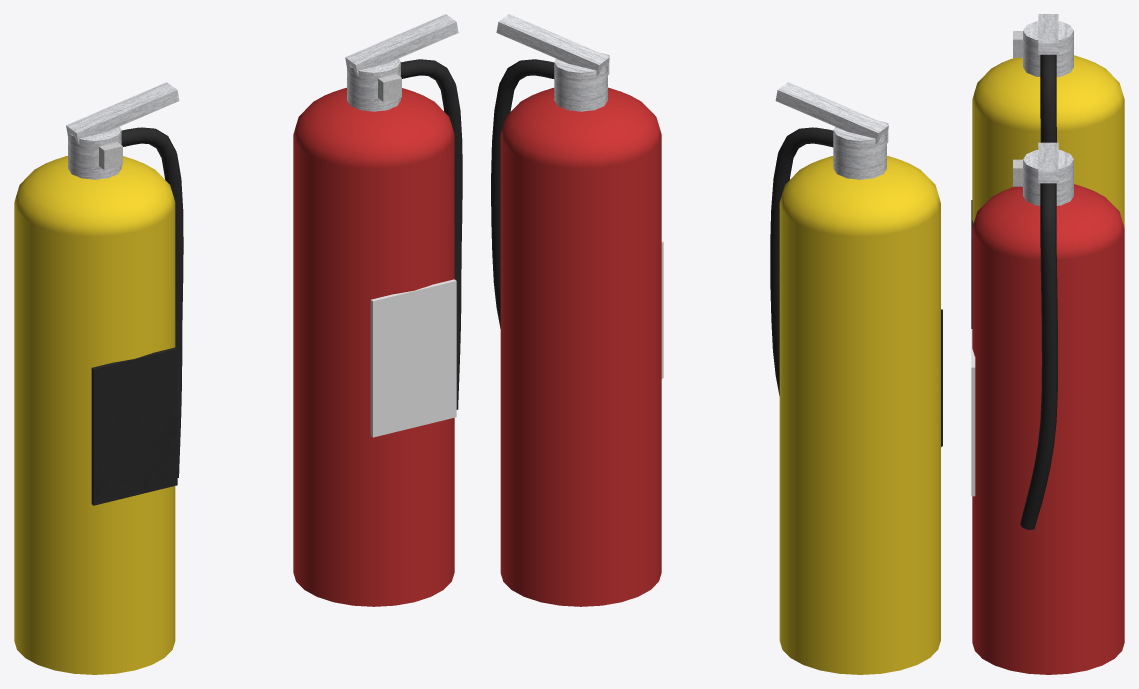
Rendered from C21d_Fire_Extinguishers_x2.fbx.
3 views of the same model, side by side, from view 1: azimuth 30°, elevation 25°; view 2: azimuth 150°, elevation 25°; view 3: azimuth 270°, elevation 25° (orthographic). The views are drawn at different scales.
Parts seen in each view (by area): view 1: Ext_1_Body, Ext_2_Body, Ext_2_Label, Ext_1_Label, Ext_1_Top, Ext_2_Top, Ext_2_Hose, Ext_1_Hose, Ext_1_Handle, Ext_2_Handle, Ext_2_Neck, Ext_1_Neck; view 2: Ext_1_Body, Ext_2_Body, Ext_1_Top, Ext_2_Top, Ext_2_Hose, Ext_1_Hose, Ext_1_Handle, Ext_2_Handle, Ext_1_Neck, Ext_2_Neck; view 3: Ext_2_Body, Ext_1_Body, Ext_2_Top, Ext_1_Top, Ext_2_Hose, Ext_1_Neck, Ext_2_Neck, Ext_1_Hose, Ext_2_Handle, Ext_1_Handle, Ext_2_Label, Ext_2_Gauge (+2 smaller).
Part boxes in pixels (bbox=[...]): Ext_1_Body: bbox=[14, 204, 175, 674]; Ext_2_Body: bbox=[293, 135, 454, 606]; Ext_2_Label: bbox=[370, 279, 456, 437]; Ext_1_Label: bbox=[91, 347, 177, 505]; Ext_1_Top: bbox=[14, 156, 175, 236]; Ext_2_Top: bbox=[293, 87, 454, 168]; Ext_2_Hose: bbox=[401, 59, 462, 409]; Ext_1_Hose: bbox=[121, 127, 183, 477]; Ext_1_Handle: bbox=[66, 82, 179, 143]; Ext_2_Handle: bbox=[345, 14, 458, 75]; Ext_2_Neck: bbox=[347, 58, 400, 111]; Ext_1_Neck: bbox=[68, 126, 121, 179]; Ext_1_Body: bbox=[779, 203, 940, 674]; Ext_2_Body: bbox=[500, 135, 661, 606]; Ext_1_Top: bbox=[779, 156, 940, 236]; Ext_2_Top: bbox=[500, 87, 661, 168]; Ext_2_Hose: bbox=[491, 59, 554, 328]; Ext_1_Hose: bbox=[770, 127, 833, 395]; Ext_1_Handle: bbox=[775, 82, 888, 143]; Ext_2_Handle: bbox=[496, 14, 609, 75]; Ext_1_Neck: bbox=[833, 126, 886, 179]; Ext_2_Neck: bbox=[554, 58, 607, 111]; Ext_2_Body: bbox=[972, 229, 1124, 674]; Ext_1_Body: bbox=[972, 100, 1124, 227]; Ext_2_Top: bbox=[972, 184, 1124, 260]; Ext_1_Top: bbox=[972, 55, 1124, 131]; Ext_2_Hose: bbox=[1020, 183, 1057, 529]; Ext_1_Neck: bbox=[1023, 21, 1073, 76]; Ext_2_Neck: bbox=[1023, 150, 1073, 205]; Ext_1_Hose: bbox=[1040, 54, 1056, 142]; Ext_2_Handle: bbox=[1038, 142, 1058, 183]; Ext_1_Handle: bbox=[1038, 14, 1058, 54]; Ext_2_Label: bbox=[971, 329, 975, 496]; Ext_2_Gauge: bbox=[1013, 159, 1022, 186].
Size of the model in its own units: 0.4702 by 0.5505 by 0.151.
Materials: 6 (3 with a texture image).
